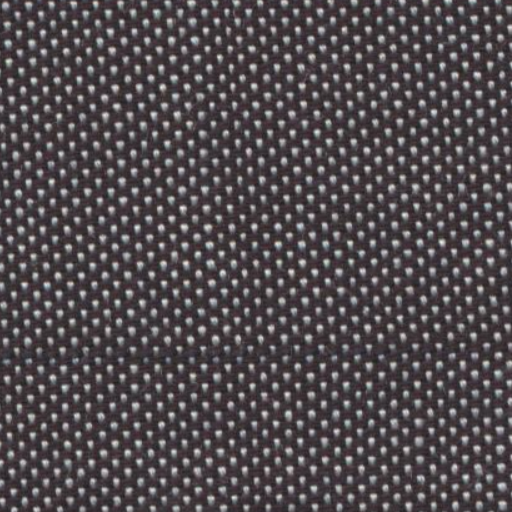TuoSha: (17, 318, 504, 378)
